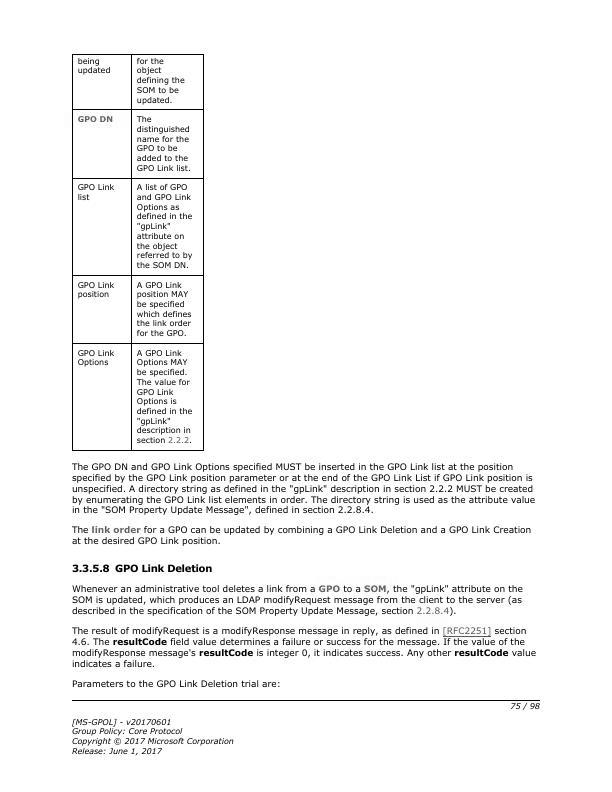table: (69, 52, 205, 452)
text: (71, 460, 536, 515), (69, 624, 537, 670), (69, 583, 524, 616), (70, 523, 532, 548), (69, 713, 236, 757), (70, 676, 283, 692), (70, 562, 216, 575)
